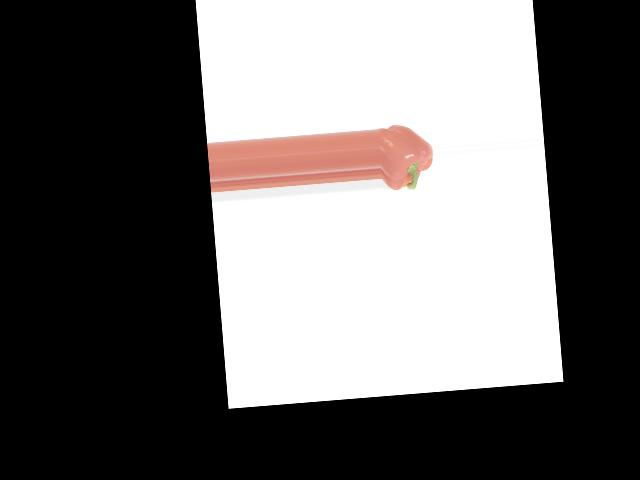bell_pepper: (376, 114, 436, 201)
